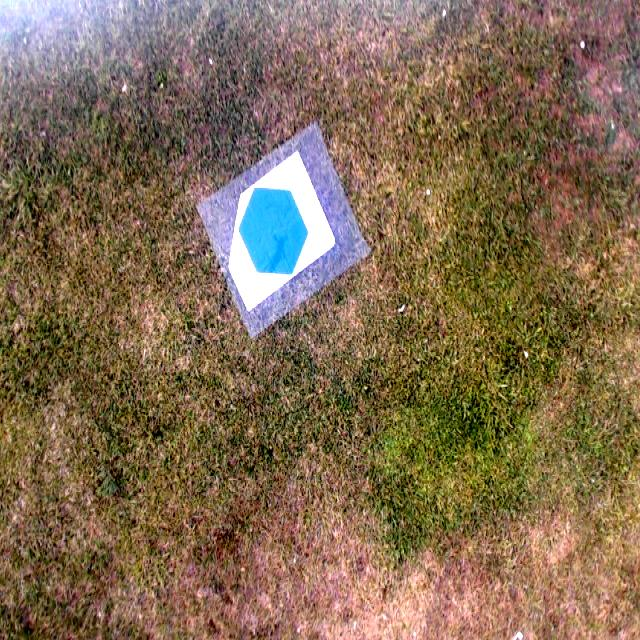blue_hexagon: (237, 184, 309, 276)
